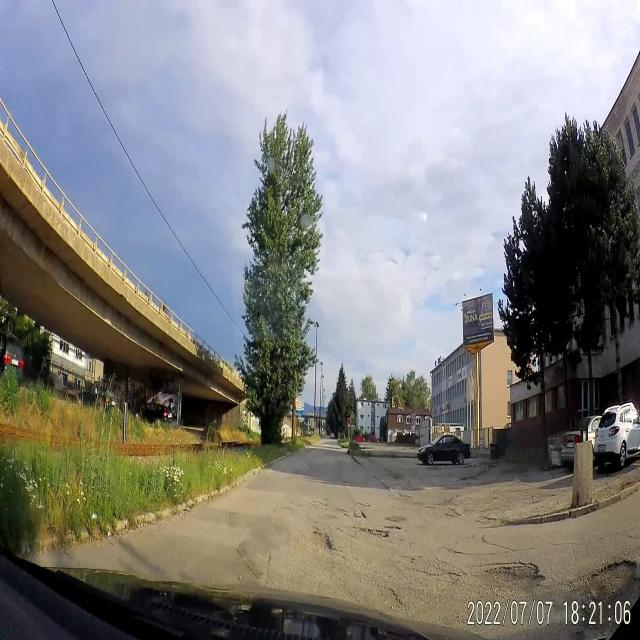Pothole: (579, 552, 640, 612), (477, 555, 545, 596), (352, 522, 402, 544), (312, 522, 336, 558), (338, 510, 367, 521), (310, 498, 328, 510), (354, 500, 372, 508)
